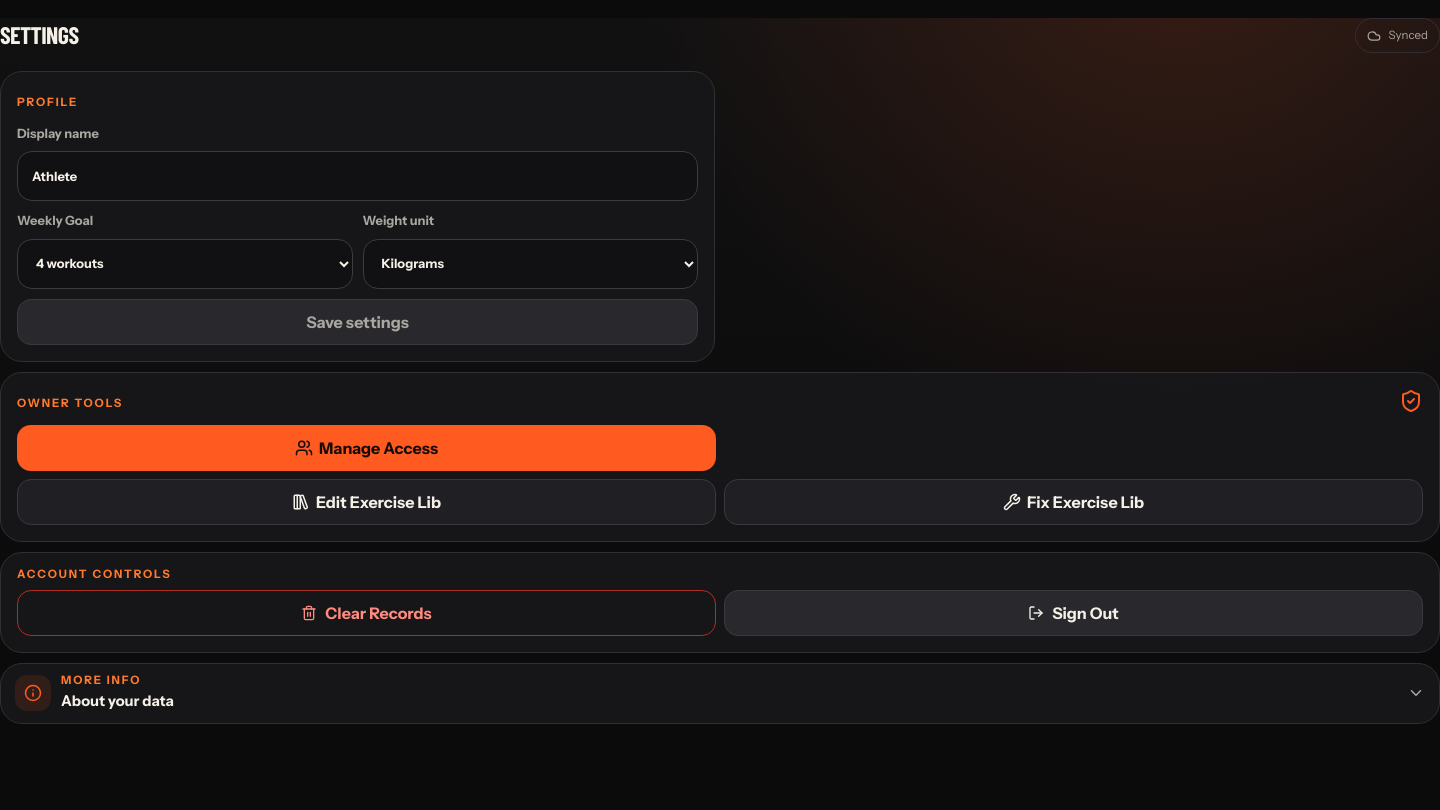
SettingsScreen account controls › opens the complete shared library from owner tools
Click the button "Edit Exercise Lib" at (366, 502), box [17,479,716,525]
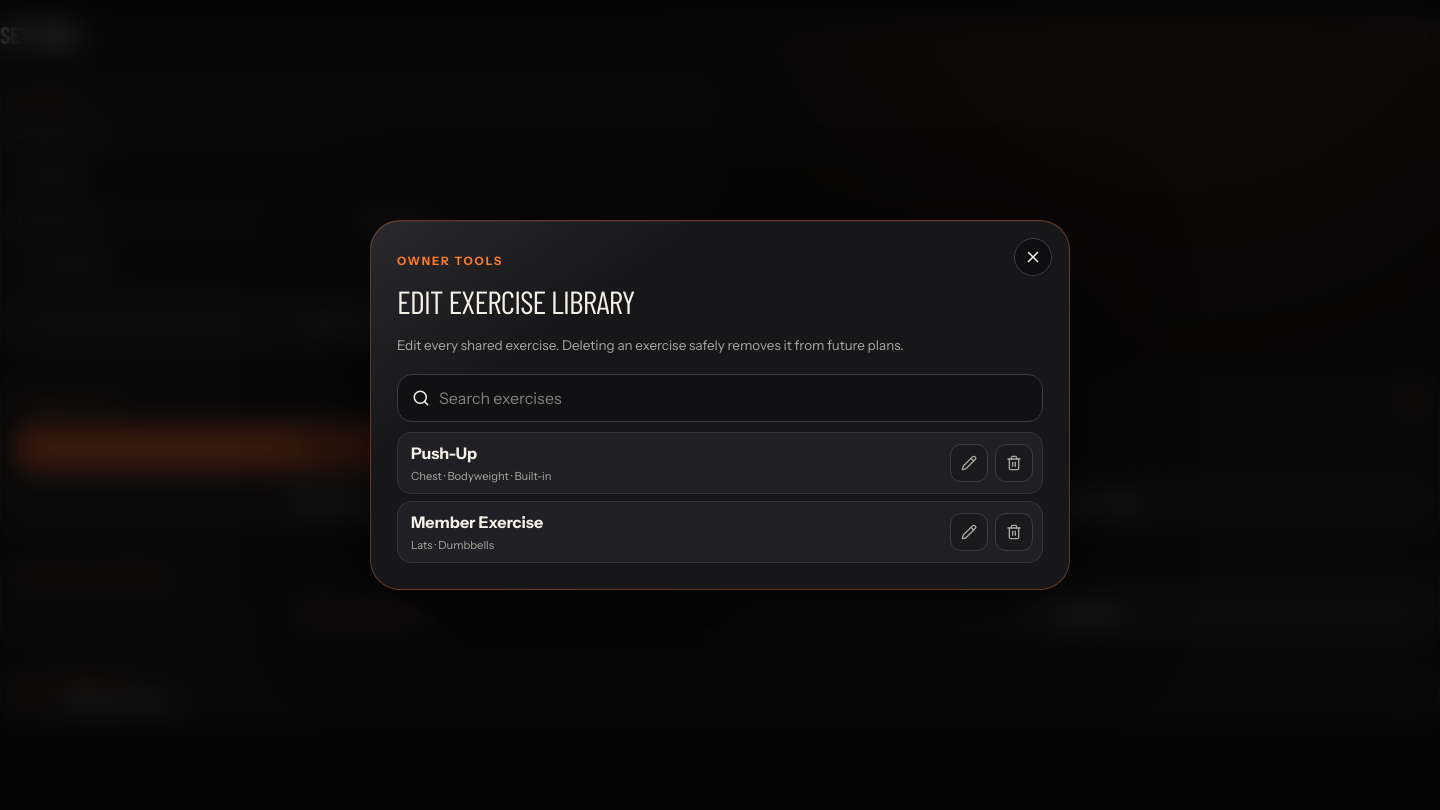
Now the dialog "Edit Exercise Library" is shown, box [370,220,1070,590]
Now the text "Push-Up" is shown, box [411,444,477,464]
Now the button named "Delete Push-Up" is shown, box [995,444,1033,482]
